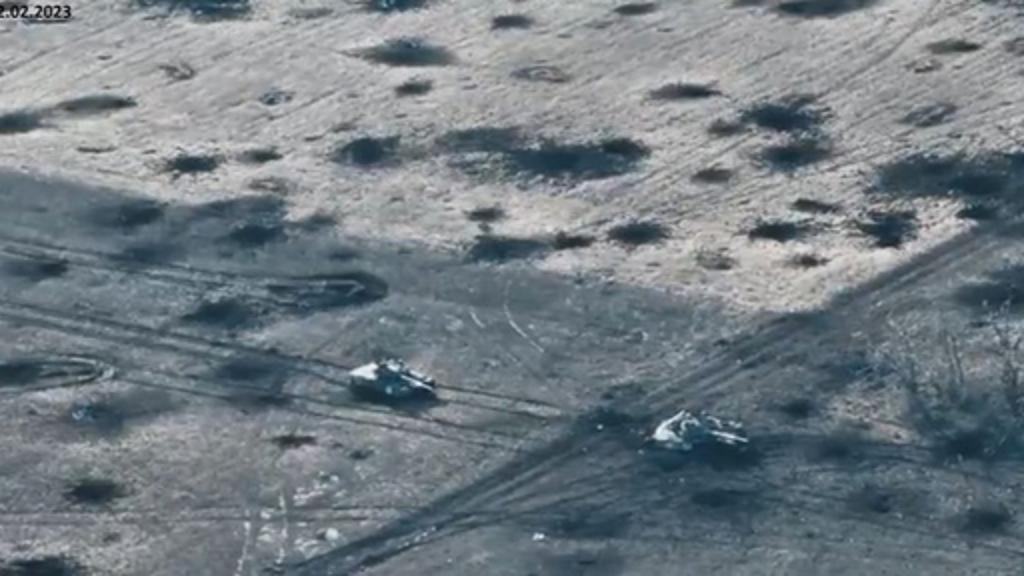TANK: (646, 404, 754, 458), (342, 348, 438, 402)
